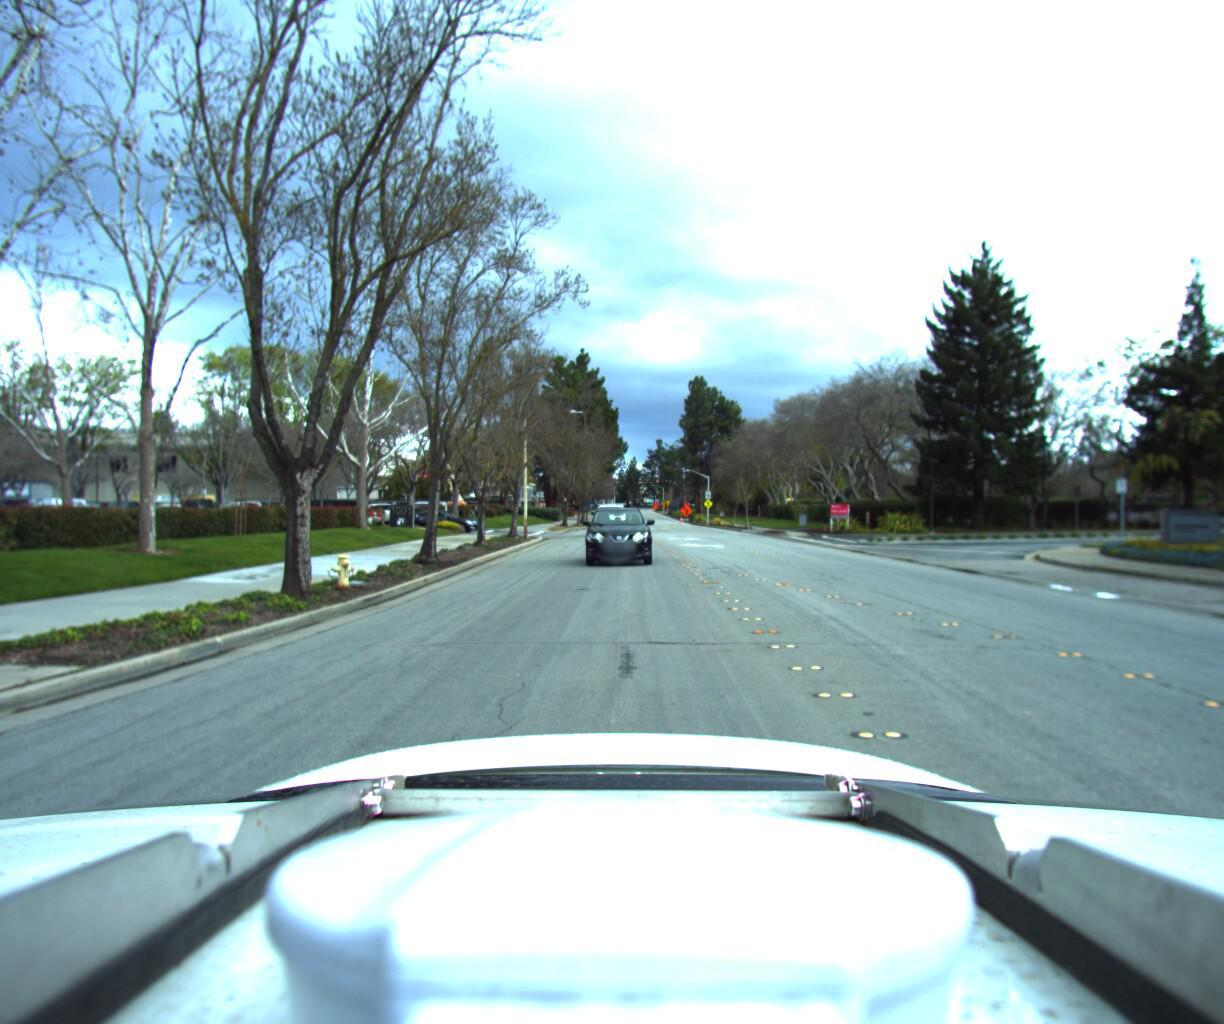car: (585, 500, 652, 562), (396, 504, 483, 529), (587, 498, 629, 534)
